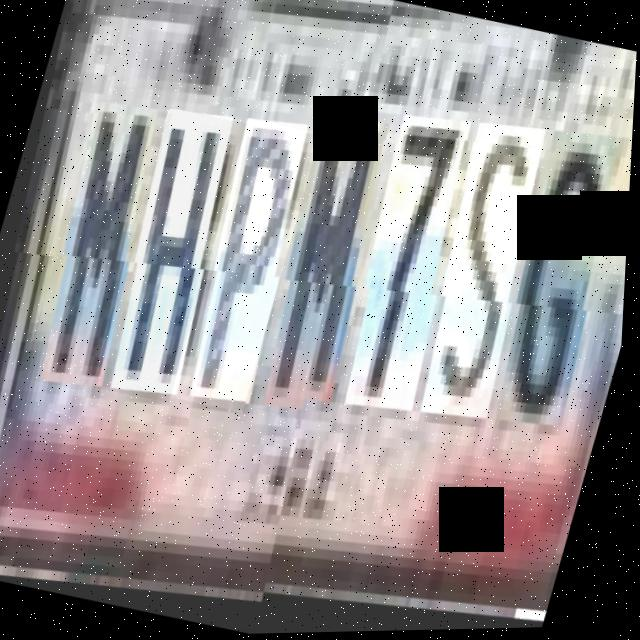7: (326, 128, 484, 436)
G: (476, 147, 633, 456)
H: (94, 107, 248, 407)
M: (248, 127, 402, 426), (24, 98, 173, 396)
P: (173, 118, 322, 416)
S: (401, 137, 559, 446)
